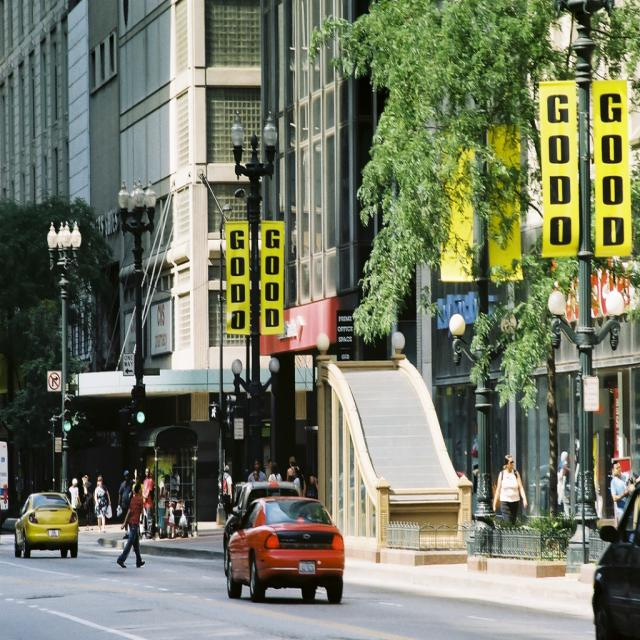Passenger Car: (225, 500, 347, 602), (592, 480, 640, 639), (14, 494, 78, 561)
Pedestrians: (117, 483, 147, 568)
